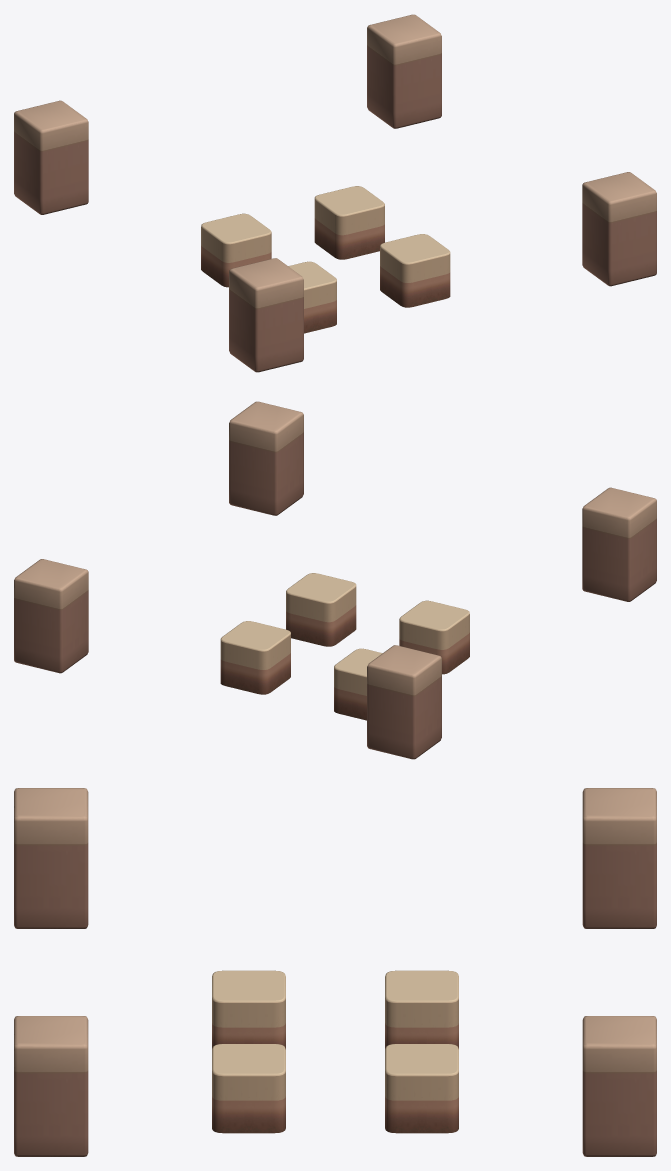
Rendered from Props.fbx.
3 views of the same model, one above another, from view 1: azimuth 30°, elevation 25°; view 2: azimuth 150°, elevation 25°; view 3: azimuth 270°, elevation 25° (orthographic). The views are drawn at different scales.
Parts seen in each view (by area): view 1: Box03, Box03 (1), Box03 (2), Box03 (3), Box01, Box01 (1), Box01 (3), Box01 (2); view 2: Box03, Box03 (1), Box03 (2), Box03 (3), Box01 (1), Box01, Box01 (2), Box01 (3); view 3: Box03, Box03 (1), Box03 (2), Box03 (3), Box01, Box01 (1), Box01 (2), Box01 (3).
Boxes of the visible parts, x1,y1,x2,y2 form: Box03: (582, 172, 656, 286); Box03 (1): (367, 14, 441, 128); Box03 (2): (229, 258, 303, 372); Box03 (3): (14, 100, 88, 214); Box01: (380, 234, 450, 307); Box01 (1): (314, 186, 384, 259); Box01 (3): (201, 213, 271, 287); Box01 (2): (288, 261, 336, 333); Box03: (229, 401, 303, 515); Box03 (1): (14, 559, 88, 673); Box03 (2): (582, 487, 656, 601); Box03 (3): (367, 645, 441, 759); Box01 (1): (220, 621, 290, 694); Box01: (286, 573, 356, 646); Box01 (2): (399, 600, 469, 674); Box01 (3): (334, 648, 382, 720); Box03: (14, 1016, 88, 1156); Box03 (1): (582, 1016, 656, 1156); Box03 (2): (14, 788, 88, 928); Box03 (3): (582, 788, 656, 928); Box01: (212, 1044, 285, 1133); Box01 (1): (385, 1044, 458, 1133); Box01 (2): (212, 970, 285, 1049); Box01 (3): (385, 970, 458, 1049).
Bounding box in the file's own units: 24.8 × 7.62 × 26.
2 materials, 2 textured.
